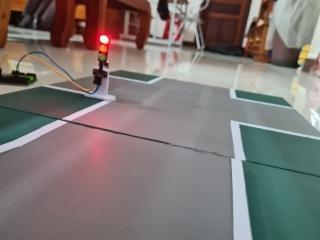red: (90, 29, 116, 86)
